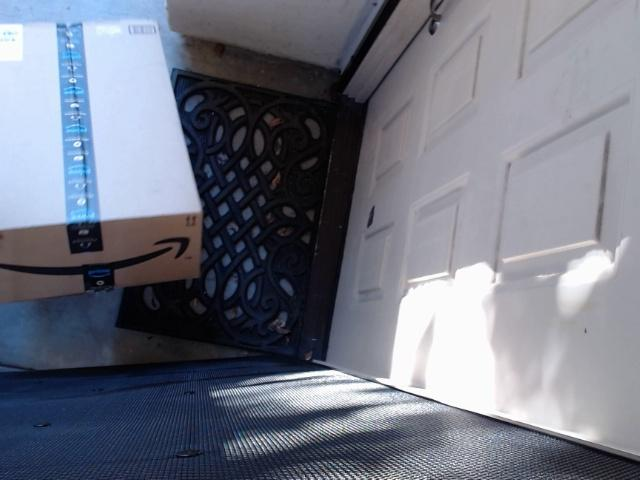box: (0, 15, 237, 328)
